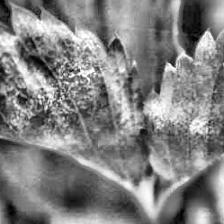Powdery Mildew Leaf: (0, 1, 154, 202), (140, 17, 224, 204)
